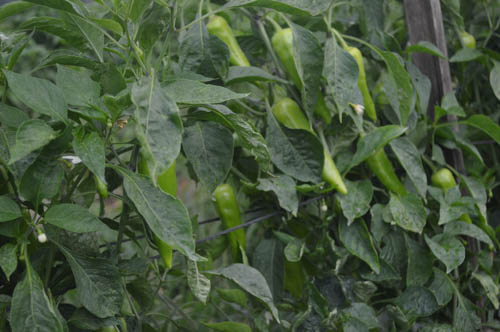ChiliPepper: (274, 99, 346, 193), (274, 32, 335, 121), (137, 152, 174, 264), (208, 18, 253, 73), (359, 137, 402, 194), (345, 51, 375, 115), (435, 170, 469, 222), (216, 187, 244, 250)
